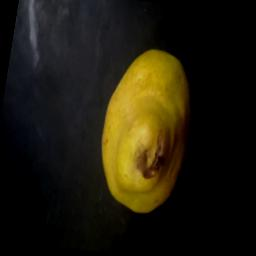Pear Unripe: (89, 42, 203, 224)
